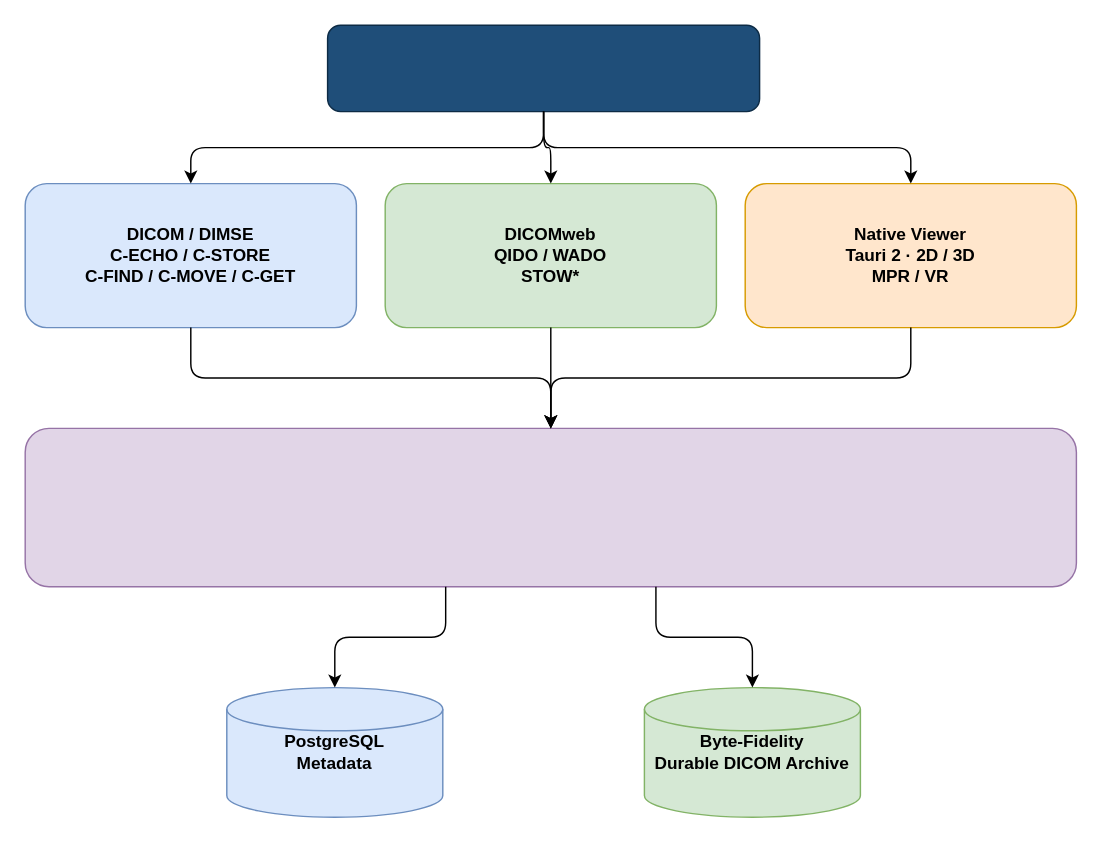
This 1102x842 diagram has some shape labels left out. Each missing label, with the box of its shape:
AETHERIS Medical Imaging Platform: (326, 24, 760, 112)
Rust Core Storage / DB · Auth / Codec · AI / Workflows: (24, 427, 1076, 587)
